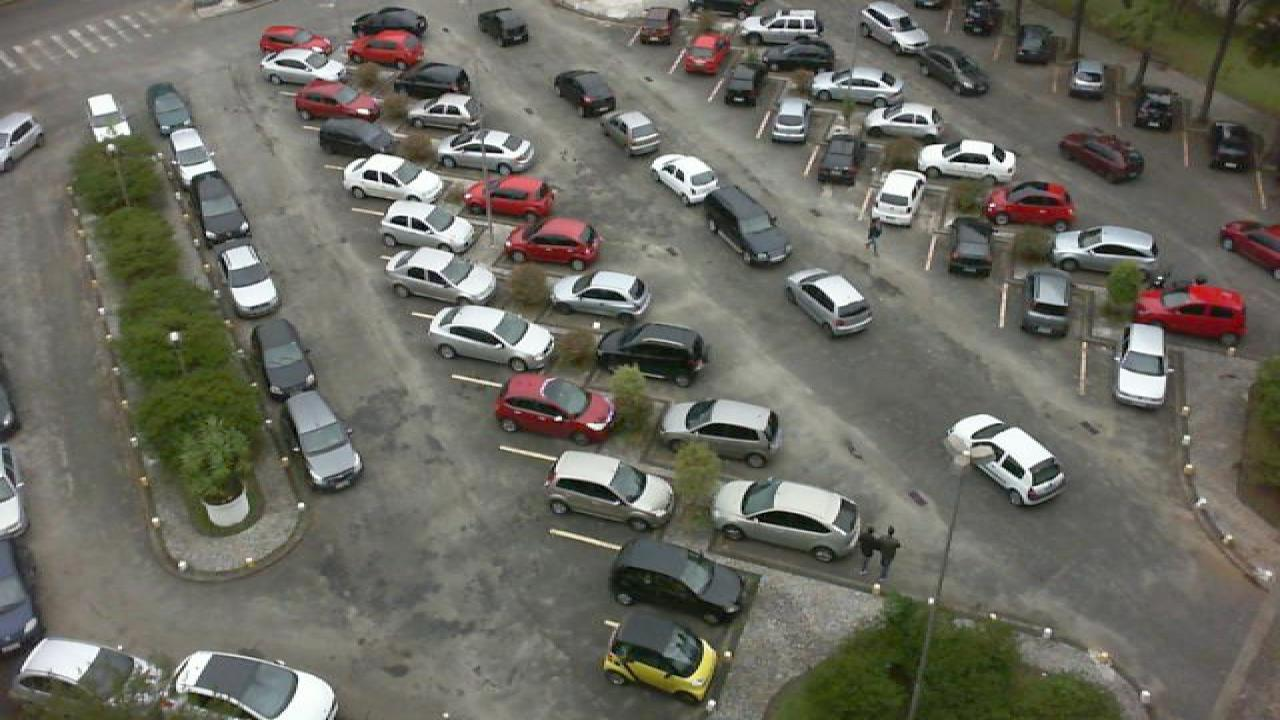Car: (710, 476, 864, 564), (12, 635, 164, 720), (608, 536, 746, 626), (600, 608, 724, 704), (942, 413, 1066, 508), (174, 650, 340, 720), (544, 449, 674, 534), (492, 371, 618, 446), (424, 305, 558, 372), (660, 397, 784, 469), (280, 390, 362, 493), (594, 322, 710, 388), (702, 185, 794, 266), (1136, 279, 1248, 345), (380, 248, 498, 303), (784, 269, 876, 337), (550, 269, 652, 325), (1048, 225, 1160, 276), (378, 199, 476, 255), (250, 316, 316, 398), (1112, 322, 1172, 410), (436, 128, 538, 178), (340, 154, 444, 203), (506, 217, 602, 267), (1056, 130, 1146, 182), (986, 179, 1078, 229), (918, 138, 1018, 184), (218, 243, 278, 316), (906, 44, 988, 97), (462, 173, 558, 218), (190, 176, 250, 246), (858, 1, 934, 53), (1016, 269, 1070, 339), (258, 48, 350, 88), (292, 79, 380, 120), (650, 154, 722, 204), (318, 118, 398, 159), (866, 169, 922, 227), (390, 62, 474, 100), (346, 29, 426, 68), (1220, 219, 1280, 271), (946, 215, 996, 277), (166, 125, 218, 184), (554, 68, 618, 115), (864, 102, 944, 139), (814, 64, 900, 98), (348, 4, 428, 40), (600, 110, 662, 156), (408, 94, 482, 130), (86, 93, 136, 146), (740, 8, 822, 40), (818, 133, 864, 187), (760, 39, 836, 70), (1208, 120, 1254, 170), (258, 24, 332, 55), (146, 84, 194, 130), (680, 32, 730, 76), (476, 7, 530, 47), (718, 63, 766, 107), (768, 98, 812, 145), (1134, 87, 1176, 130), (638, 4, 678, 44), (1014, 24, 1050, 64), (1068, 60, 1104, 99), (962, 0, 996, 36)
